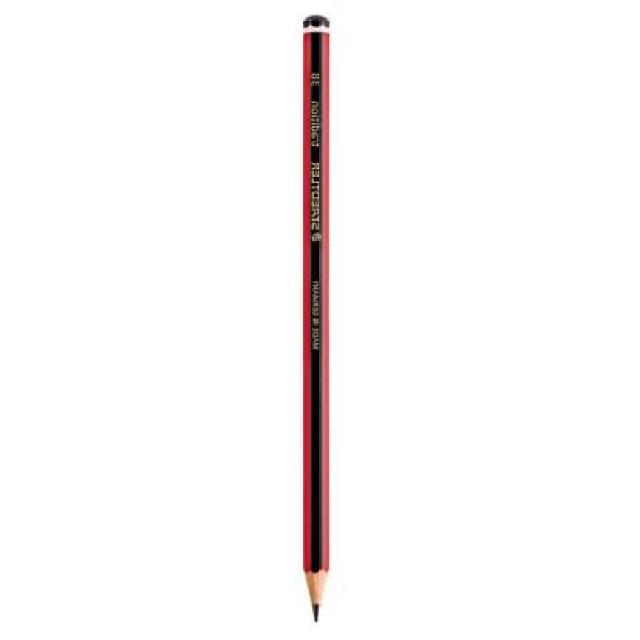pencil: (289, 544, 337, 628)
